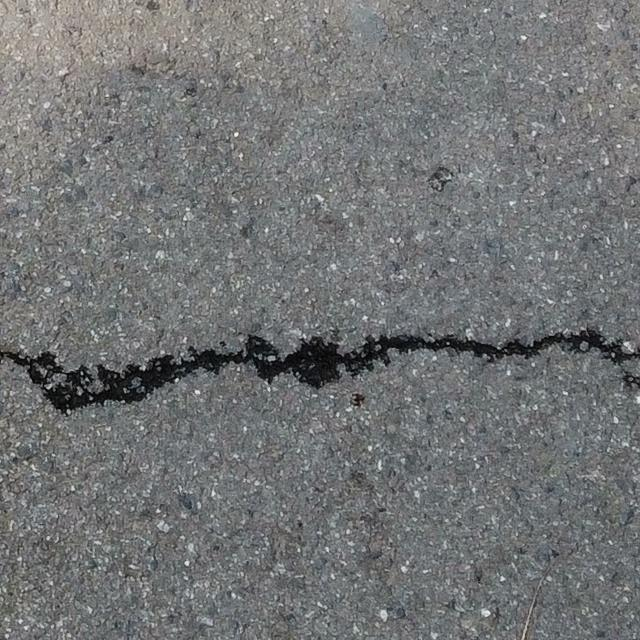TransverseCrack: (1, 329, 640, 413)
